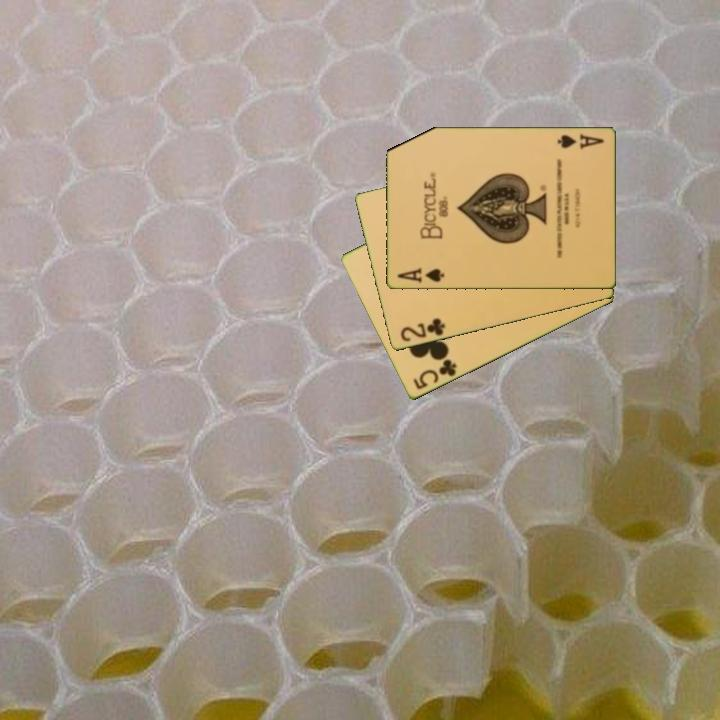2c: (397, 315, 448, 345)
5c: (410, 356, 460, 393)
As: (394, 264, 447, 286), (554, 131, 606, 152)
